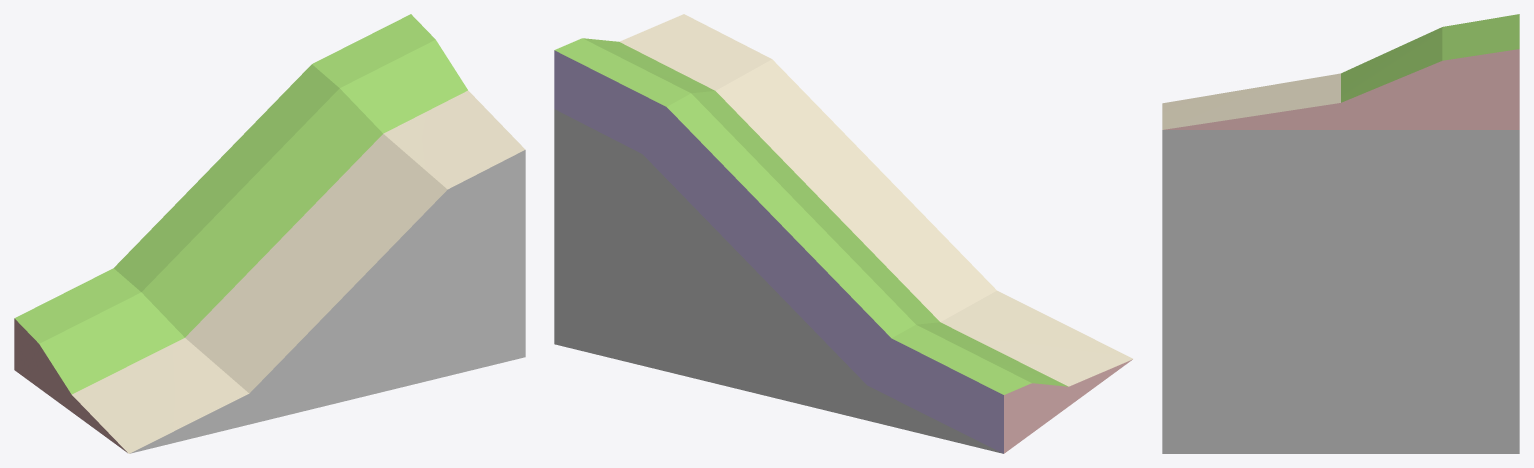
File: Path_Terrain_Incline_Sharp_Edge_1x2.glb
The picture shows the model from 3 angles, left to right: view 1: azimuth 30°, elevation 25°; view 2: azimuth 150°, elevation 25°; view 3: azimuth 270°, elevation 25°; orthographic projection. The views are drawn at different scales.
Parts seen in each view (by area): view 1: Path_Terrain_Incline_Sharp_Edge_1x2; view 2: Path_Terrain_Incline_Sharp_Edge_1x2; view 3: Path_Terrain_Incline_Sharp_Edge_1x2.
Boxes of the visible parts, bbox=[...] form: Path_Terrain_Incline_Sharp_Edge_1x2: bbox=[14, 14, 525, 453]; Path_Terrain_Incline_Sharp_Edge_1x2: bbox=[554, 14, 1132, 453]; Path_Terrain_Incline_Sharp_Edge_1x2: bbox=[1162, 14, 1519, 453].
Bounding box in the file's own units: 200 × 125 × 100.
